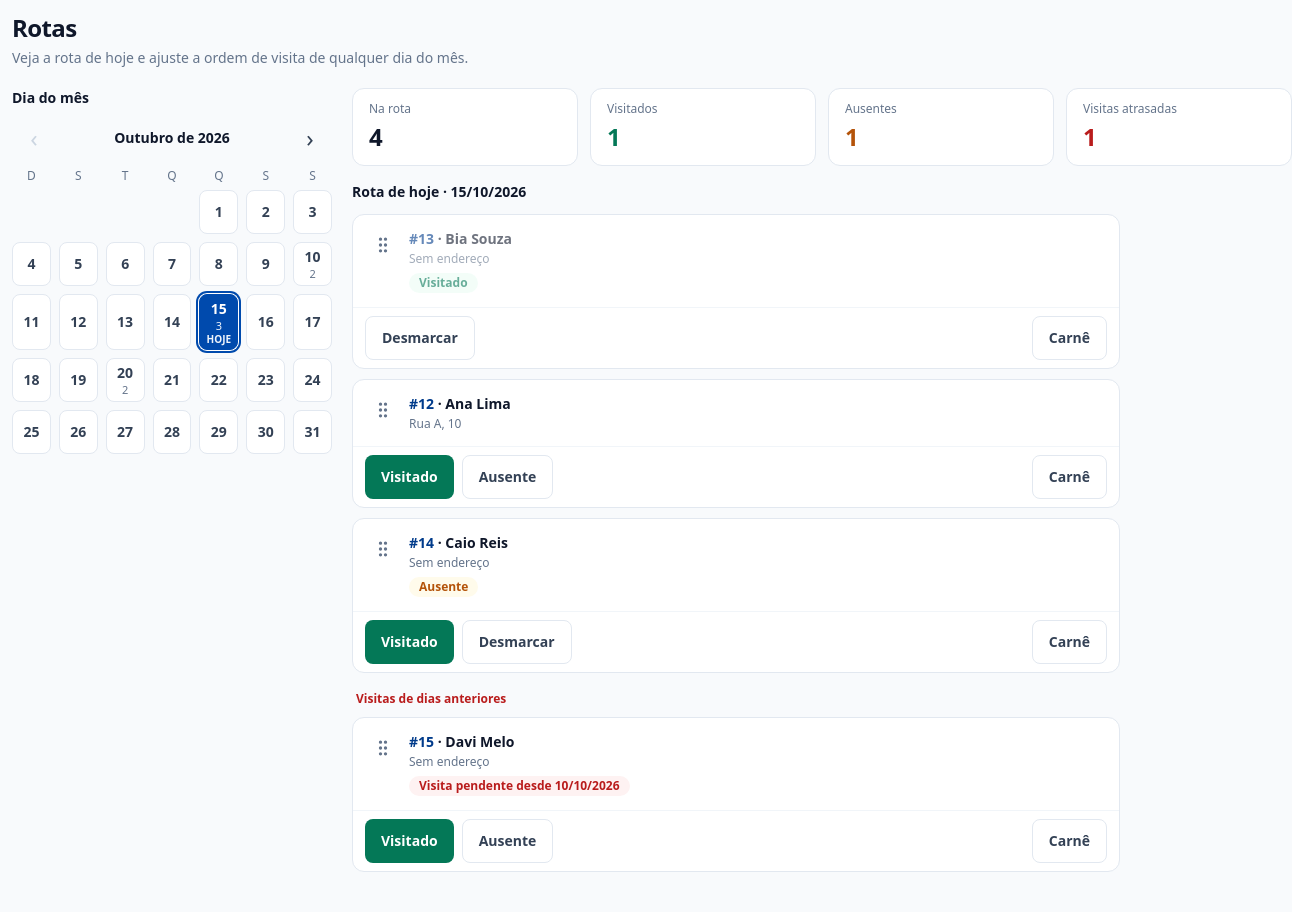
it: RotasPage — calendário › outra data vira planejamento: sem marcas nem KPIs, com o aviso de que a ordem vale todo mês
Click the button named "20 de outubro": (125, 380) [106, 358, 145, 402]
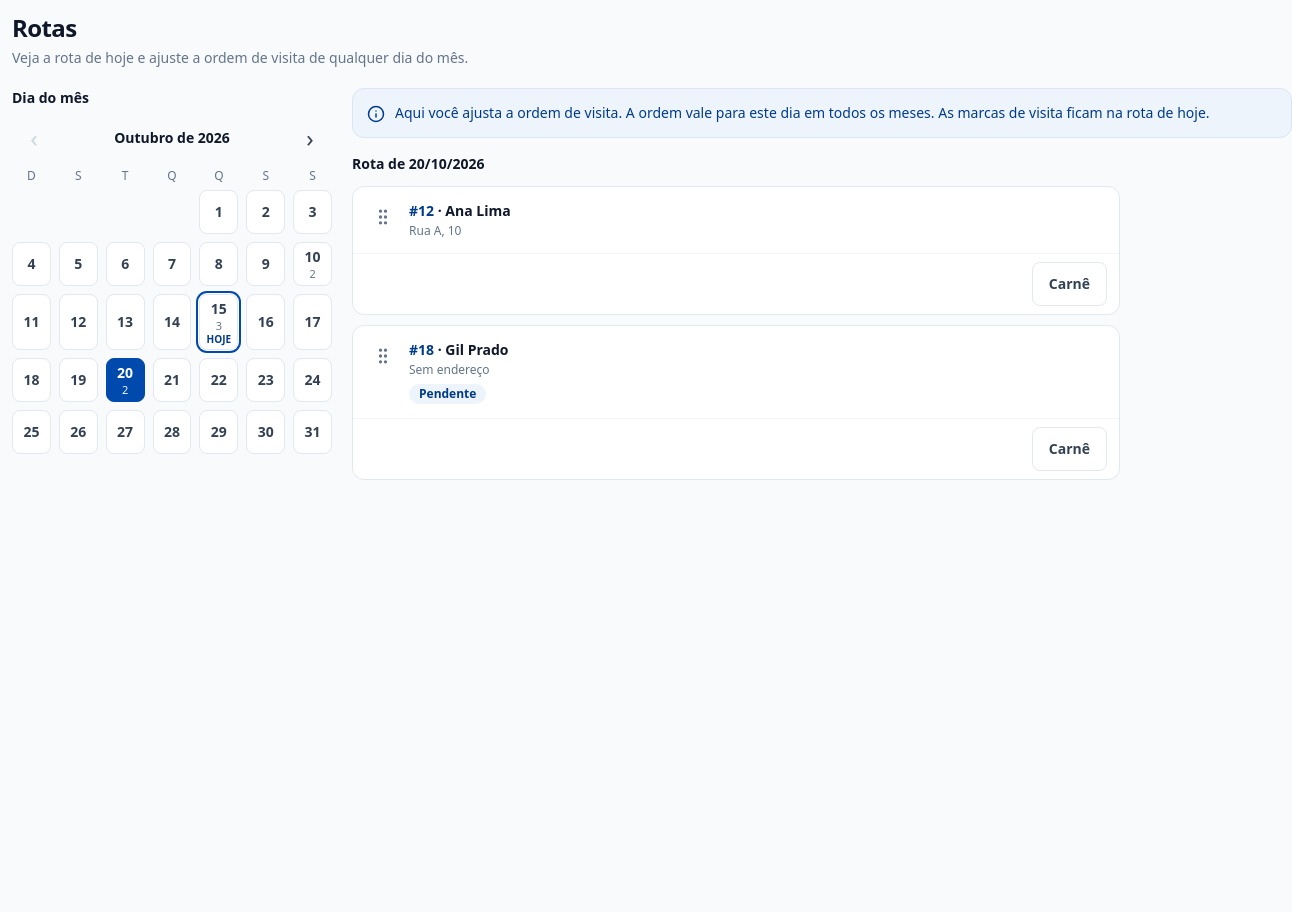
Check: the heading "Rota de 20/10/2026" is shown, box [352, 154, 484, 173]
Check: the text "A ordem vale para este dia em todos os meses" is shown, box [395, 103, 1210, 122]
Check: the text "Visitado" is gone
